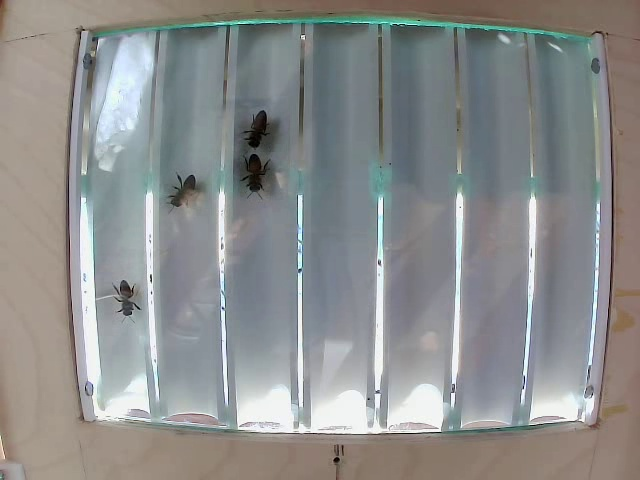bee: (242, 108, 286, 153), (240, 150, 281, 198), (165, 178, 210, 220), (104, 279, 145, 319)
